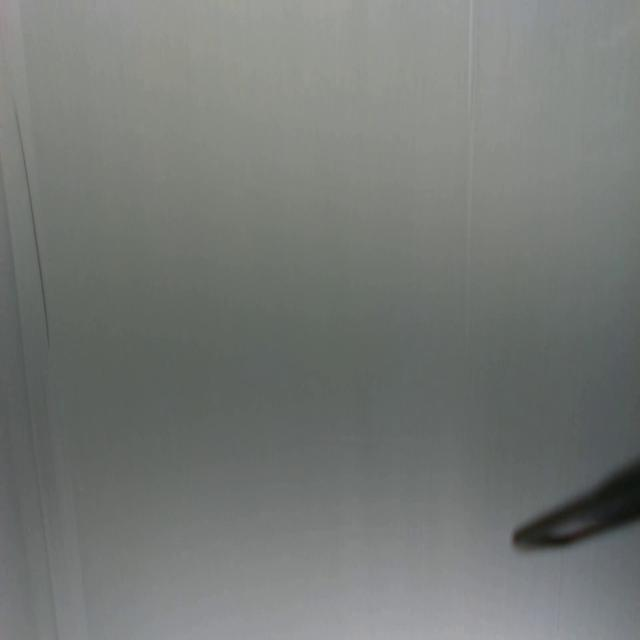crease: (10, 87, 54, 352), (27, 396, 58, 632)
